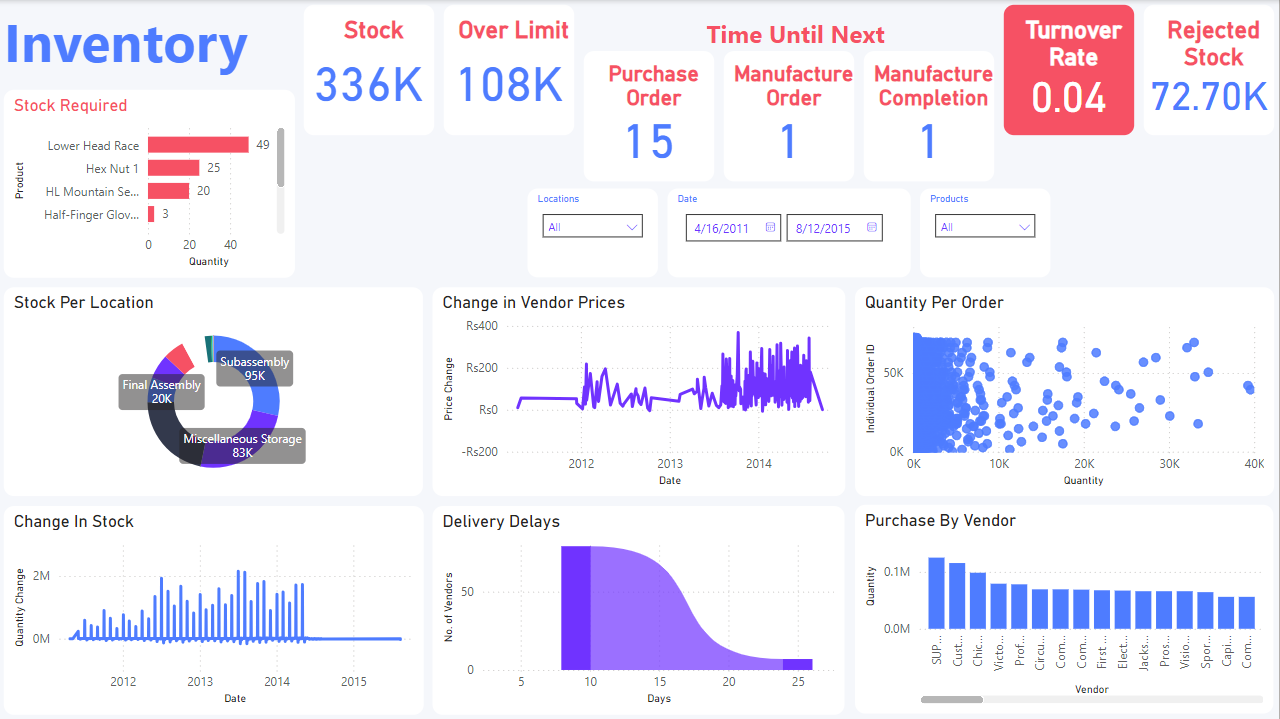

Layout of this report page (visuals, bound fields, positions):
{"tool":"powerbi","page":{"name":"Dashboard","canvas":[1280,720],"ordinal":0},"visuals":[{"type":"textbox","box":[0,0,272.2,85.3],"z":0},{"type":"card","title":"Stock","fields":{"Values":["Sum(total_stock_per_location.qty)"]},"box":[300.5,0,140,140],"z":1000},{"type":"card","title":"Over Limit","fields":{"Values":["Sum(safety_combined_location.exceededquantity)"]},"box":[440.5,0,140,140],"z":2000},{"type":"card","title":"Purchase Order","fields":{"Values":["_calculations.Next Purchase"]},"box":[580.4,46.1,140,140],"z":3000},{"type":"card","title":"Turnover Rate","fields":{"Values":["Sum(turnover_rate.turnover_rate)"]},"box":[1000.3,0,140,140],"z":4000},{"type":"card","title":"Rejected Stock","fields":{"Values":["Sum(rejected.rejected_qty)"]},"box":[1140.3,0,140,140],"z":5000},{"type":"textbox","box":[708.1,0,222.3,53.5],"z":6000},{"type":"card","title":"Manufacture Completion","fields":{"Values":["_calculations.Next Completion"]},"box":[860.4,46.7,140,140],"z":7000},{"type":"card","title":"Manufacture Order","fields":{"Values":["_calculations.Next Manufacture"]},"box":[720.4,46.7,140,140],"z":8000},{"type":"lineChart","title":"Change In Stock","fields":{"Category":["inventory_change.date"],"Y":["Sum(inventory_change.qty_changed)"]},"box":[0,501.1,429.3,218.4],"z":9000},{"type":"donutChart","title":"Stock Per Location","fields":{"Category":["locations.location"],"Y":["Sum(locations.quantity)"]},"box":[0,282.6,428.8,218.8],"z":10000},{"type":"barChart","title":"Stock Required","fields":{"Category":["low_inventory_alert_combined.product"],"Y":["Sum(low_inventory_alert_combined.to_reorder)"]},"box":[0,85.3,300.6,197.4],"z":11000},{"type":"clusteredColumnChart","title":"Purchase By Vendor","fields":{"Category":["purchase_by_vendor.vendor"],"Y":["Sum(purchase_by_vendor.qty)"]},"box":[851.5,500.6,428.2,218.4],"z":12000},{"type":"lineChart","title":"Change in Vendor Prices","fields":{"Category":["price_change2.date"],"Y":["Sum(price_change2.price_change)"]},"box":[428.8,282.6,422.6,218.8],"z":13000},{"type":"ribbonChart","title":"Delivery Delays","fields":{"Category":["delay.time"],"Y":["Count(delay.vendor)"]},"box":[429.3,501.1,421.8,218.4],"z":14000},{"type":"scatterChart","title":"Quantity Per Order","fields":{"X":["Sum(manufacture_orders.qty)"],"Y":["manufacture_orders.orderid"]},"box":[851.4,282.6,428.8,218.8],"z":15000},{"type":"slicer","title":"Products","fields":{"Values":["products.product"]},"box":[916.4,183.8,140,98.8],"z":16000},{"type":"slicer","title":"Locations","fields":{"Values":["locations_unique.location"]},"box":[523.9,183.8,140,98.8],"z":17000},{"type":"slicer","title":"Date","fields":{"Values":["_dates.date"]},"box":[663.9,183.8,252.6,98.8],"z":18000}]}

Visuals, with their boxes in screenshot pixels (x1, y1, x2, y2), scaled from the page's 1280x720 canvas onto the 1280x719 screenshot:
textbox: locate(0, 0, 272, 85)
"Stock" card: locate(300, 0, 440, 140)
"Over Limit" card: locate(440, 0, 580, 140)
"Purchase Order" card: locate(580, 46, 720, 186)
"Turnover Rate" card: locate(1000, 0, 1140, 140)
"Rejected Stock" card: locate(1140, 0, 1279, 140)
textbox: locate(708, 0, 930, 53)
"Manufacture Completion" card: locate(860, 47, 1000, 186)
"Manufacture Order" card: locate(720, 47, 860, 186)
"Change In Stock" lineChart: locate(0, 500, 429, 718)
"Stock Per Location" donutChart: locate(0, 282, 429, 501)
"Stock Required" barChart: locate(0, 85, 301, 282)
"Purchase By Vendor" clusteredColumnChart: locate(852, 500, 1279, 718)
"Change in Vendor Prices" lineChart: locate(429, 282, 851, 501)
"Delivery Delays" ribbonChart: locate(429, 500, 851, 718)
"Quantity Per Order" scatterChart: locate(851, 282, 1279, 501)
"Products" slicer: locate(916, 184, 1056, 282)
"Locations" slicer: locate(524, 184, 664, 282)
"Date" slicer: locate(664, 184, 916, 282)
